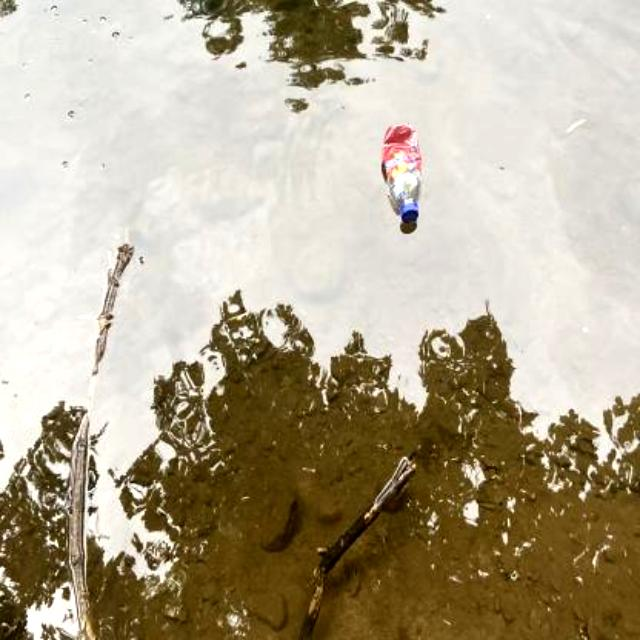Plastic: (372, 112, 428, 230)
